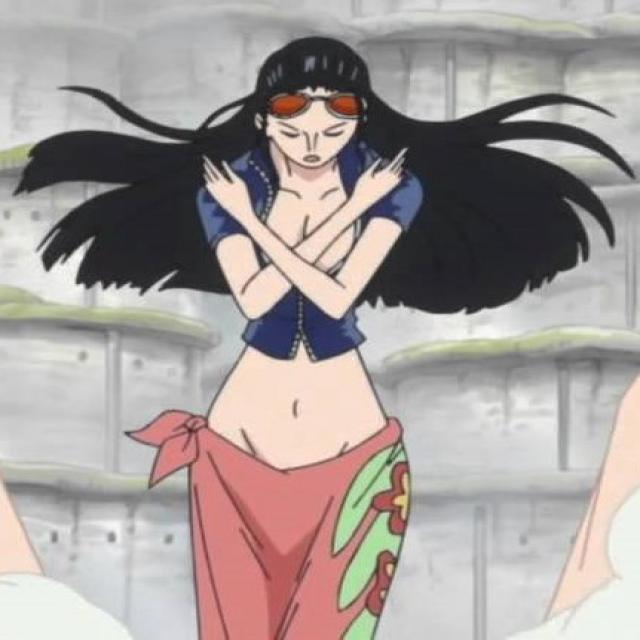Robin: (16, 37, 633, 640)
